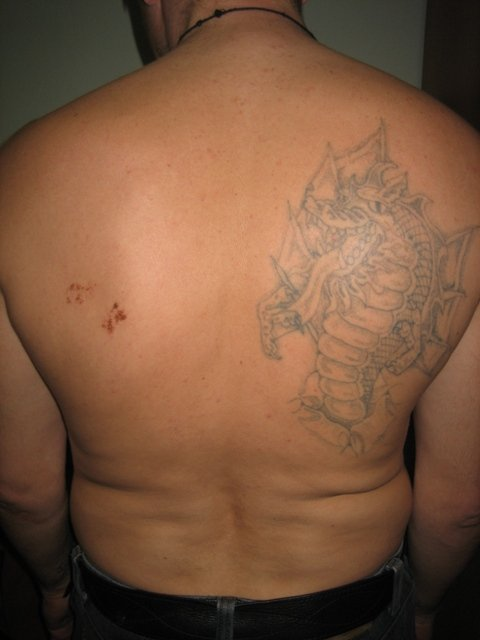tatu6_drakon: (257, 99, 480, 450)
